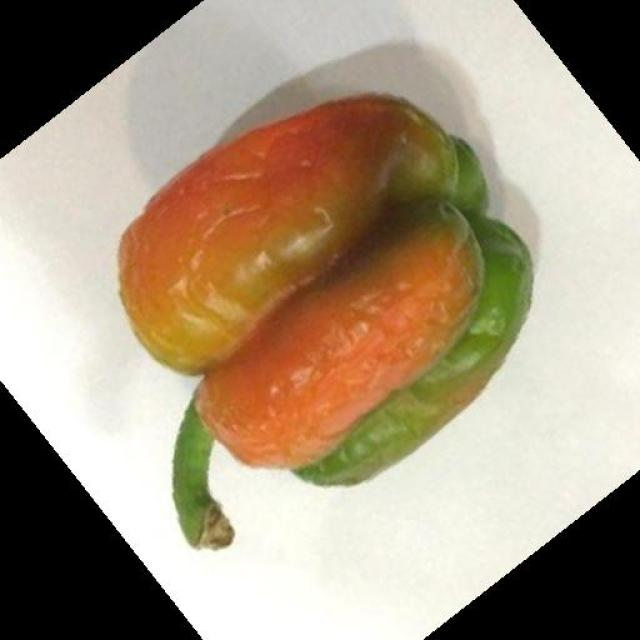Stale_Capsicum: (115, 92, 542, 485)
